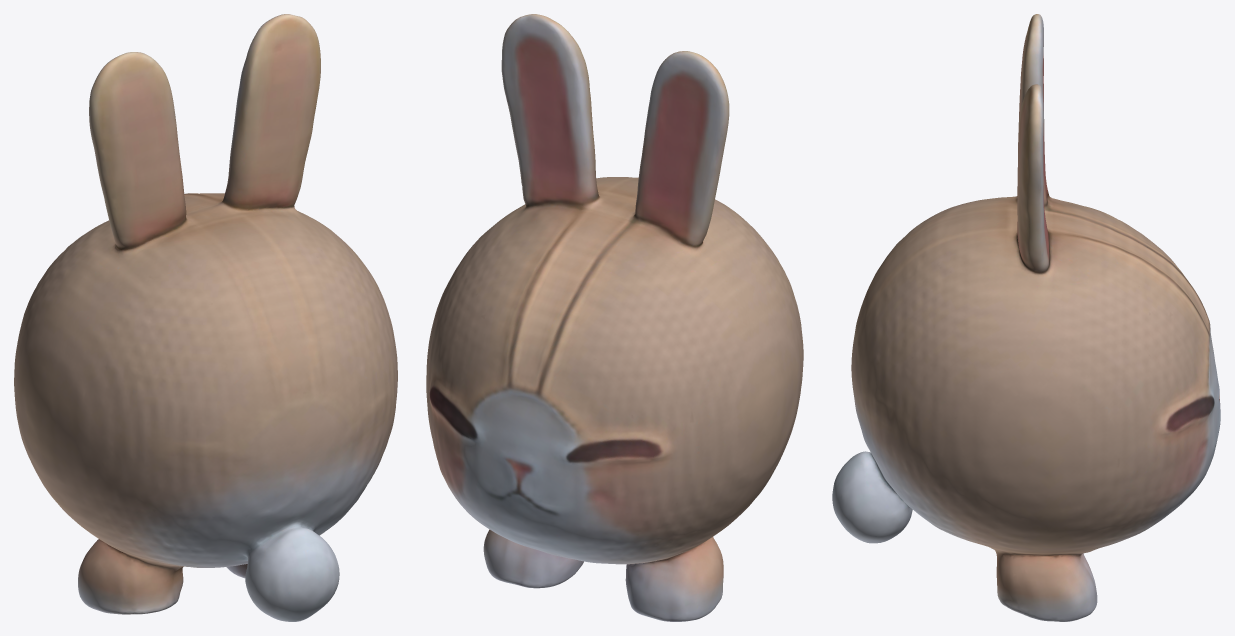
File: bunny.glb
3 renders of one model, left to right at view 1: azimuth 30°, elevation 25°; view 2: azimuth 150°, elevation 25°; view 3: azimuth 270°, elevation 25°, orthographic. The views are drawn at different scales.
Parts seen in each view (by area): view 1: lapin; view 2: lapin; view 3: lapin.
Part boxes in pixels (x1,y1,x2,y2): lapin: (14,14,397,621); lapin: (426,14,803,621); lapin: (832,14,1220,621).
Size of the model in its own units: 0.3411 by 0.5506 by 0.3717.
1 material, 1 textured.
